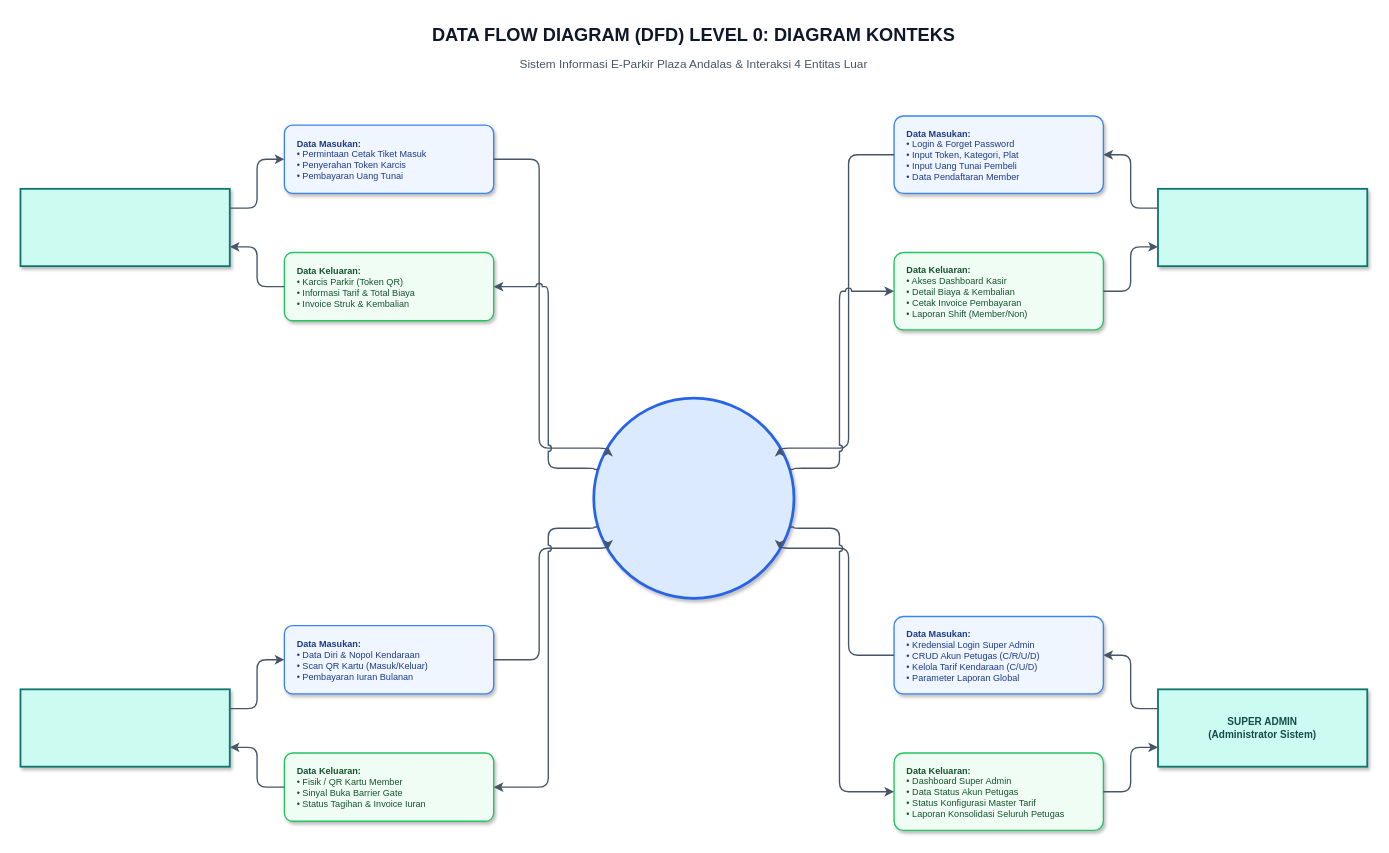
Some shapes in this 1389 by 853 pixel diagram are drawn without their labels. The shapes that lost their labels are listed below. From the top down, each one's centre as x and y in pixels, then its label:
At point (125, 228): "PENGENDARA NON-MEMBER (Pengunjung Harian)".
At point (1263, 228): "PETUGAS E-PARKIR (Kasir Pos Keluar)".
At point (694, 499): "0.0 SISTEM INFORMASI E-PARKIR (Plaza Andalas)".
At point (125, 729): "PENGENDARA MEMBER (Berlangganan / Bulanan)".
